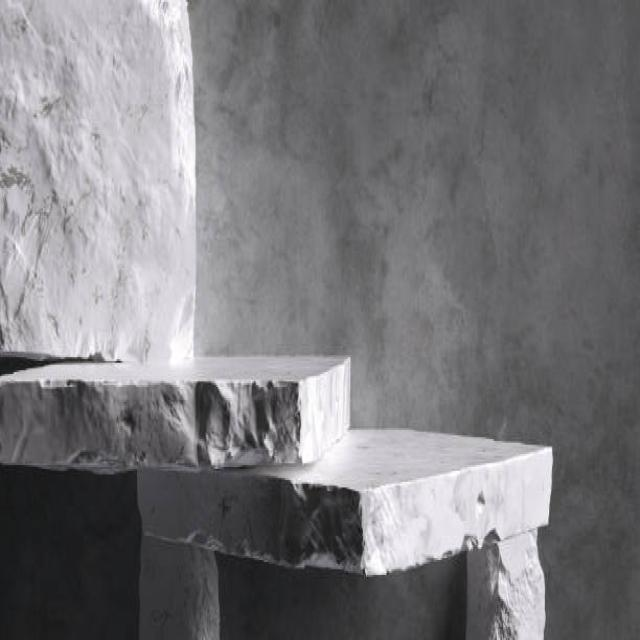Metamorphic: (1, 8, 200, 356), (138, 406, 563, 568), (3, 356, 354, 464), (461, 536, 545, 640), (137, 536, 220, 640)
